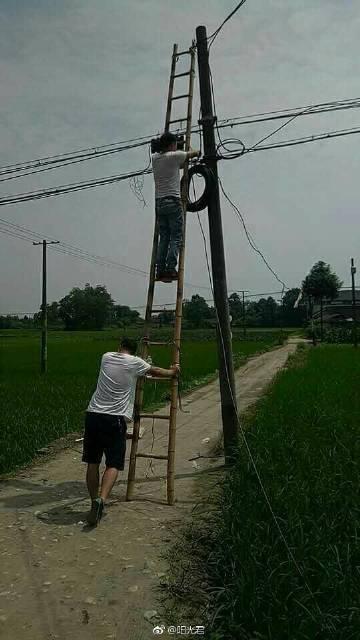安全帽、安全绳，工作服均未佩戴的工作人员: (149, 130, 202, 283)
安全帽、工作服均未穿戴的工作人员: (79, 336, 182, 528)
